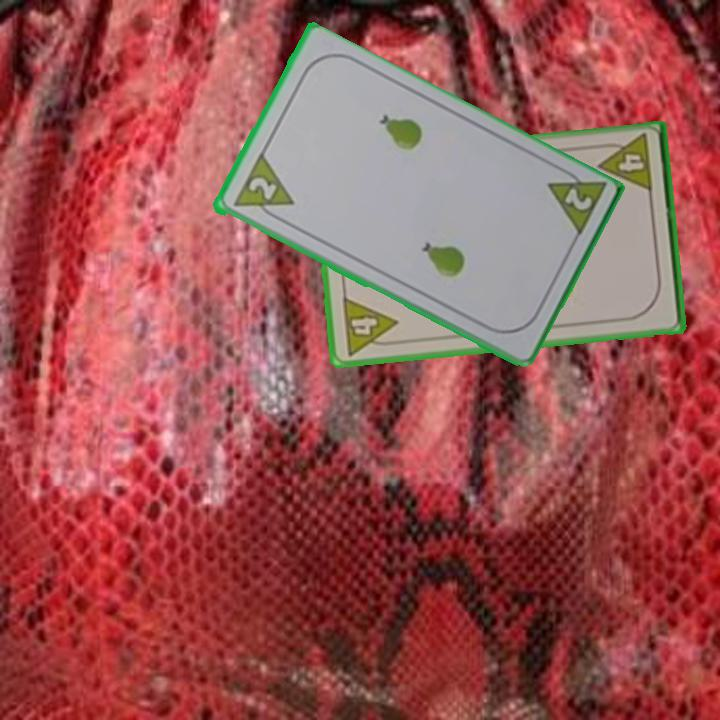2p: (244, 173, 279, 203), (560, 184, 595, 214)
4p: (338, 293, 402, 358), (594, 130, 656, 196)
